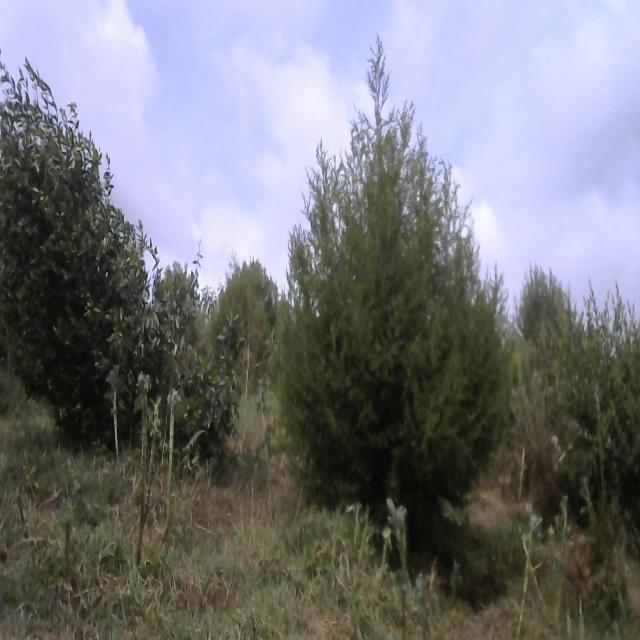Juniperus procesera: (277, 35, 508, 601), (207, 269, 271, 364)
Olea europea -africana-: (0, 51, 243, 460), (557, 287, 640, 526), (516, 260, 569, 348)
